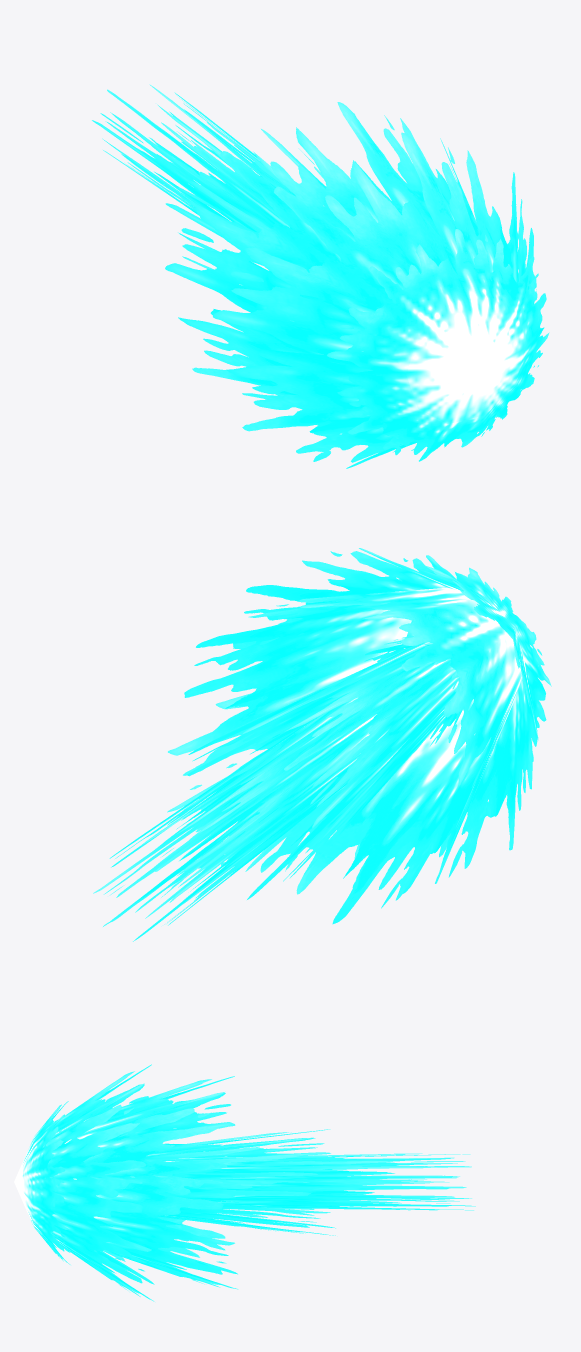
3 renders of one model, top to bottom at view 1: azimuth 30°, elevation 25°; view 2: azimuth 150°, elevation 25°; view 3: azimuth 270°, elevation 25°, orthographic. The views are drawn at different scales.
Parts seen in each view (by area): view 1: node_polygon0_mesh0_mat_0_0_6_2_15, node_polygon1_mesh0_mat_0_0_10_7_21; view 2: node_polygon0_mesh0_mat_0_0_6_2_15, node_polygon1_mesh0_mat_0_0_10_7_21; view 3: node_polygon0_mesh0_mat_0_0_6_2_15, node_polygon1_mesh0_mat_0_0_10_7_21.
Boxes of the visible parts, <box> form: node_polygon0_mesh0_mat_0_0_6_2_15: <box>165,102,549,468</box>; node_polygon1_mesh0_mat_0_0_10_7_21: <box>92,84,326,285</box>; node_polygon0_mesh0_mat_0_0_6_2_15: <box>168,548,551,924</box>; node_polygon1_mesh0_mat_0_0_10_7_21: <box>93,636,462,941</box>; node_polygon0_mesh0_mat_0_0_6_2_15: <box>14,1064,238,1301</box>; node_polygon1_mesh0_mat_0_0_10_7_21: <box>130,1129,475,1235</box>.
Size of the model in its own units: 2.34 by 2.22 by 4.11.
1 material, 1 textured.
